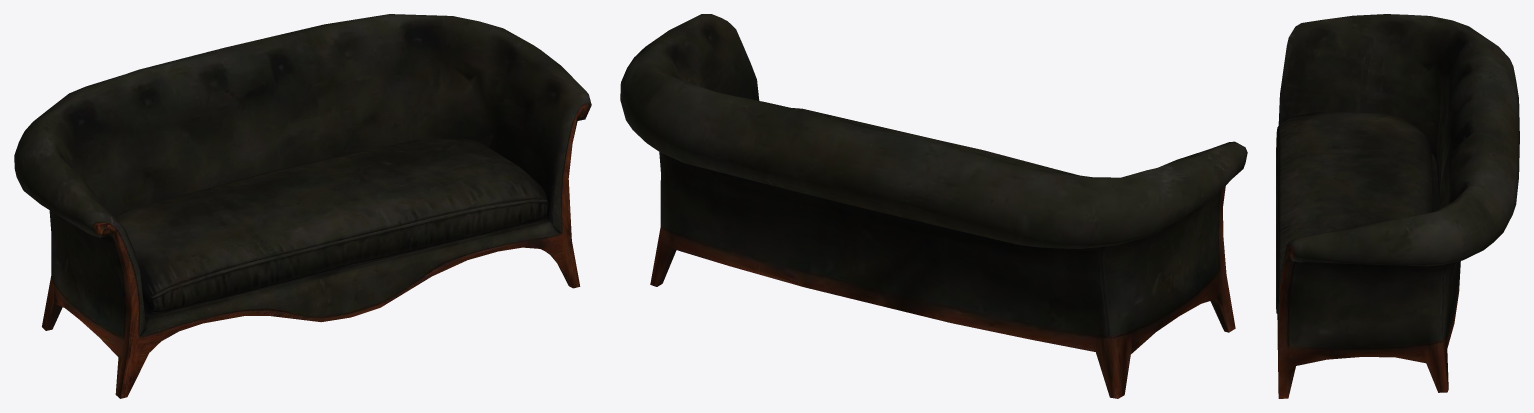
Rendered from sofa_02.glb.
3 views of the same model, side by side, from view 1: azimuth 30°, elevation 25°; view 2: azimuth 150°, elevation 25°; view 3: azimuth 270°, elevation 25° (orthographic). The views are drawn at different scales.
Parts seen in each view (by area): view 1: sofa_02_Base; view 2: sofa_02_Base; view 3: sofa_02_Base.
Boxes of the visible parts, bbox=[...] form: sofa_02_Base: bbox=[14, 14, 591, 398]; sofa_02_Base: bbox=[620, 14, 1247, 398]; sofa_02_Base: bbox=[1276, 14, 1519, 398].
Size of the model in its own units: 1.81 by 0.7095 by 0.8159.
1 material, 1 textured.
